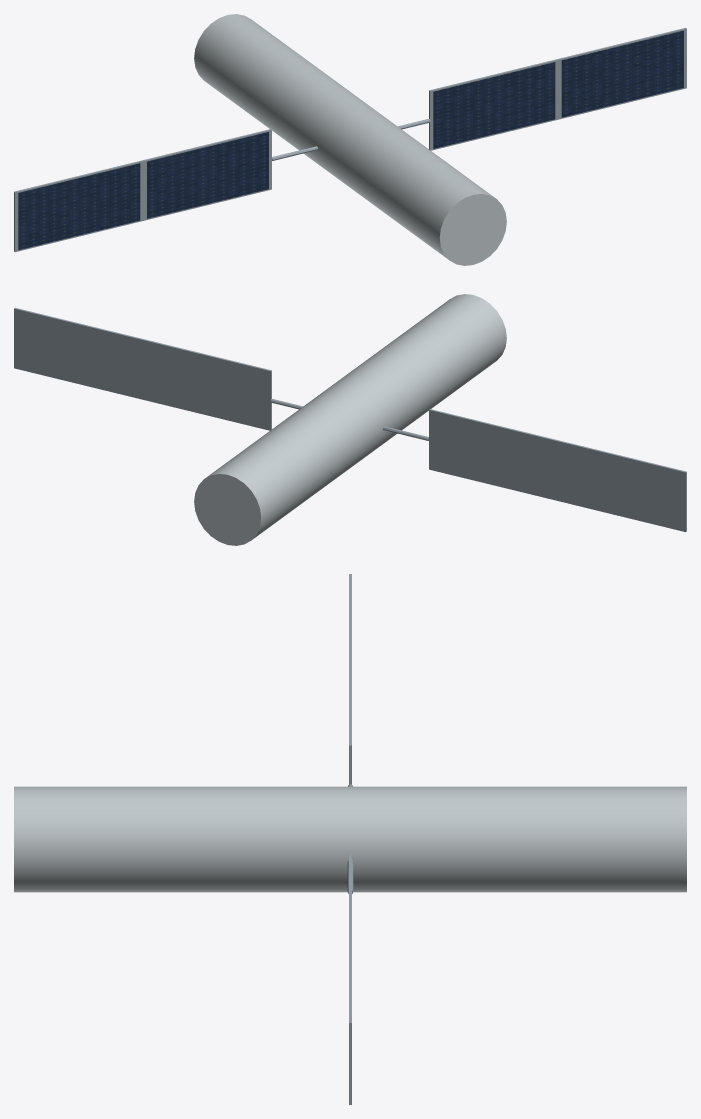
File: ref-kh-11-9627.glb
3 renders of one model, top to bottom at view 1: azimuth 30°, elevation 25°; view 2: azimuth 150°, elevation 25°; view 3: azimuth 270°, elevation 25°, orthographic. The views are drawn at different scales.
Visible parts, largest first — view 1: Photovoltaic laminates (×4), Spacecraft body, Array frame (×4); view 2: Array frame (×4), Spacecraft body; view 3: Spacecraft body.
Boxes of the visible parts, x1=… form: Photovoltaic laminates (×4): x1=18, y1=30, x2=683, y2=250; Spacecraft body: x1=194, y1=14, x2=506, y2=265; Array frame (×4): x1=14, y1=27, x2=686, y2=252; Array frame (×4): x1=14, y1=307, x2=686, y2=532; Spacecraft body: x1=194, y1=294, x2=506, y2=545; Spacecraft body: x1=14, y1=786, x2=686, y2=892.
Size of the model in its own units: 30 by 3 by 19.
Materials: 3 (1 with a texture image).
